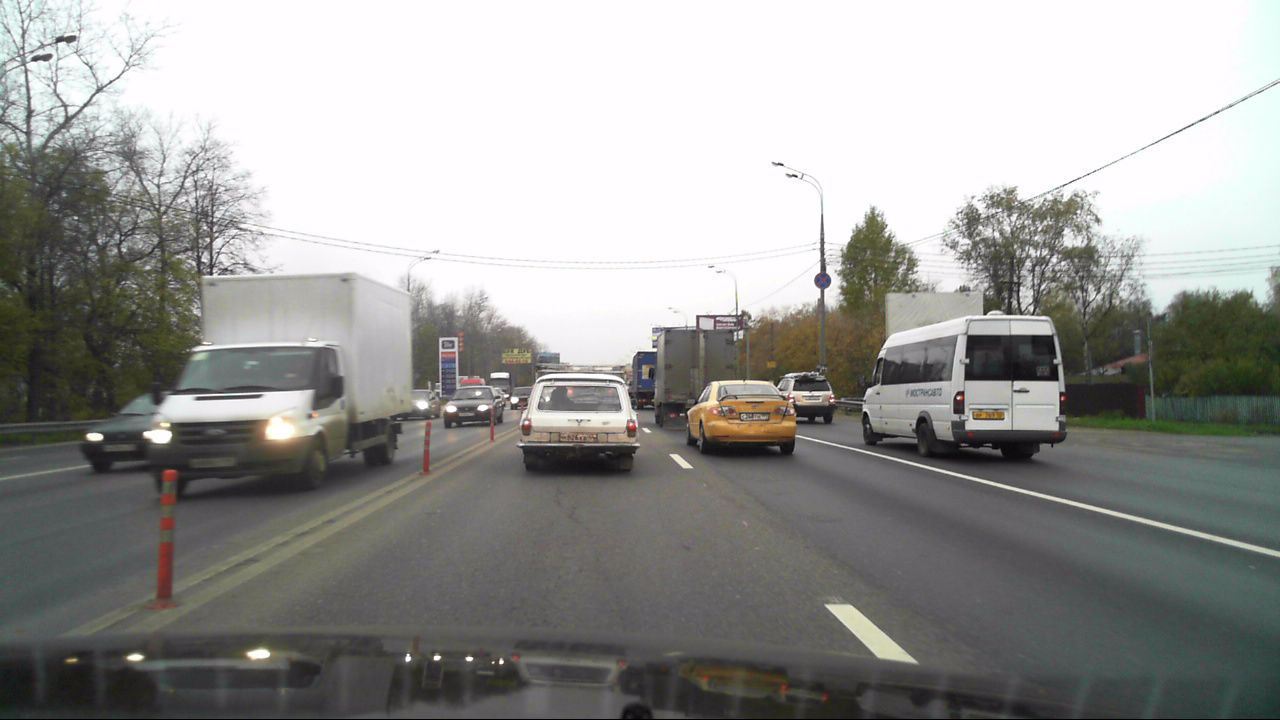No Parking: (814, 272, 831, 288)
